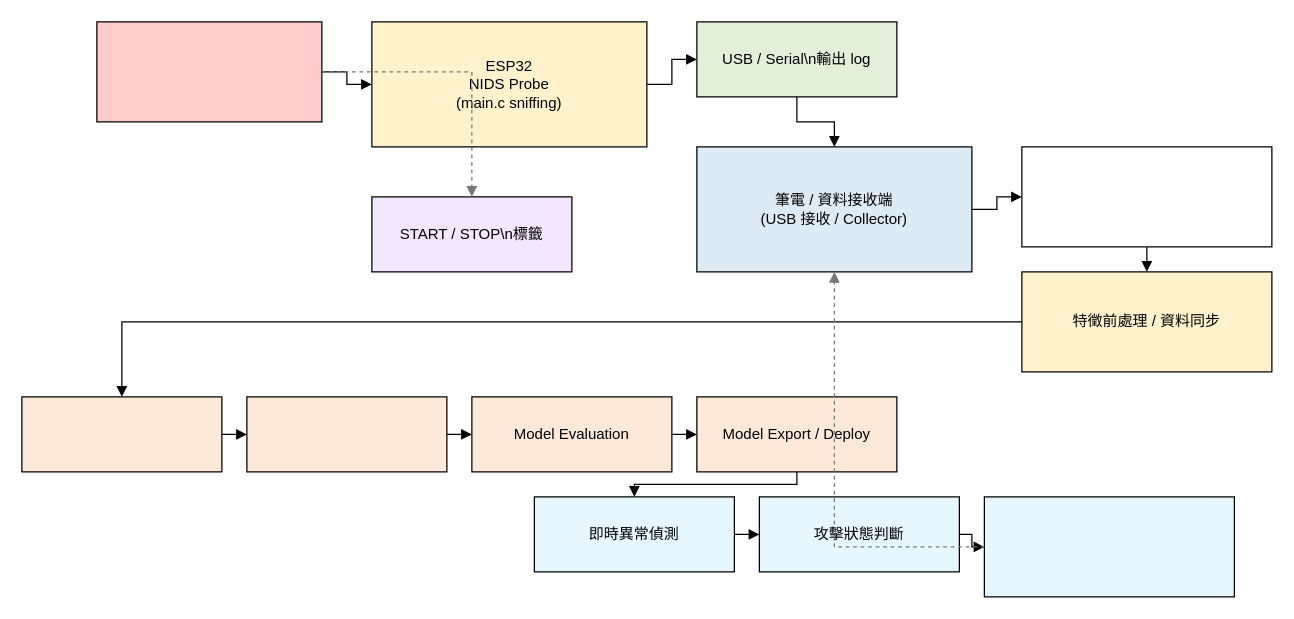
Some shapes in this 1294 by 619 pixel diagram are drawn without their labels. The shapes that lost their labels are listed below. From the top down, each one's centre as x and y in pixels, then its label:
the point at 209,71: Kali\n攻擊主機
the point at 1146,196: CSV 匯出 / 資料整理
the point at 121,434: Dataset 建立
the point at 346,434: Model Training
the point at 1108,546: 防禦動作 警示/記錄/降頻/封鎖/切換模式
